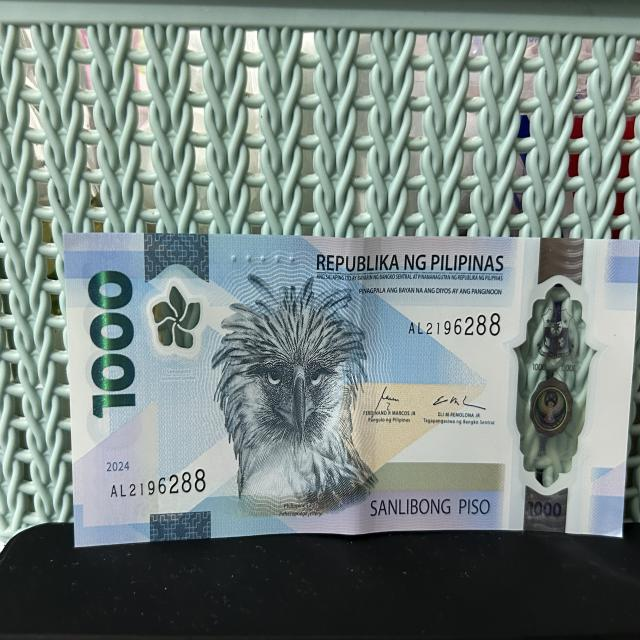clear_window: (508, 267, 599, 501)
eagle: (220, 271, 372, 511)
sampaguita: (148, 281, 208, 357)
